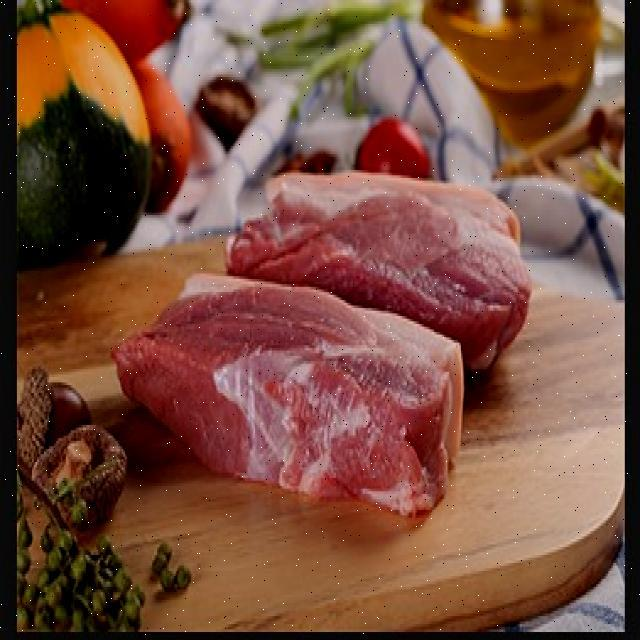pork: (105, 257, 473, 531), (229, 161, 533, 351)
